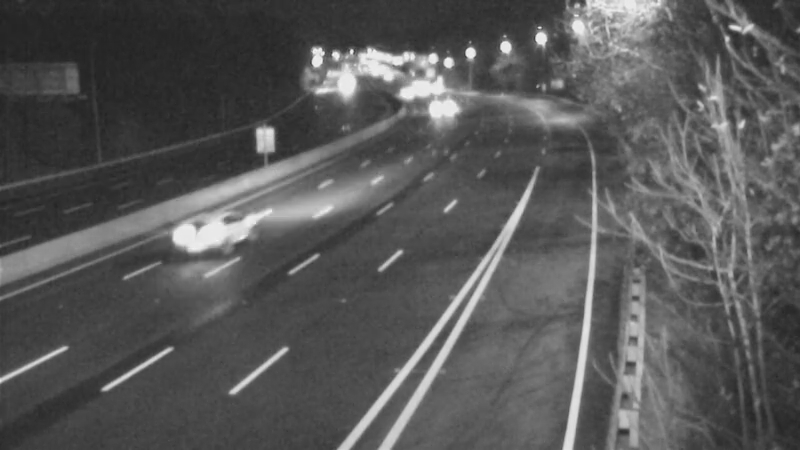vehicle: (154, 200, 234, 280), (374, 68, 424, 118), (417, 87, 467, 137)
